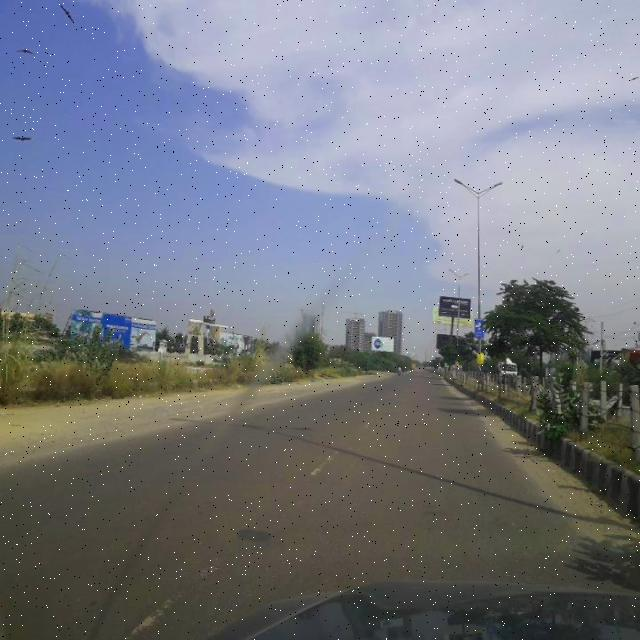D44: (132, 548, 228, 634), (288, 444, 337, 494)
